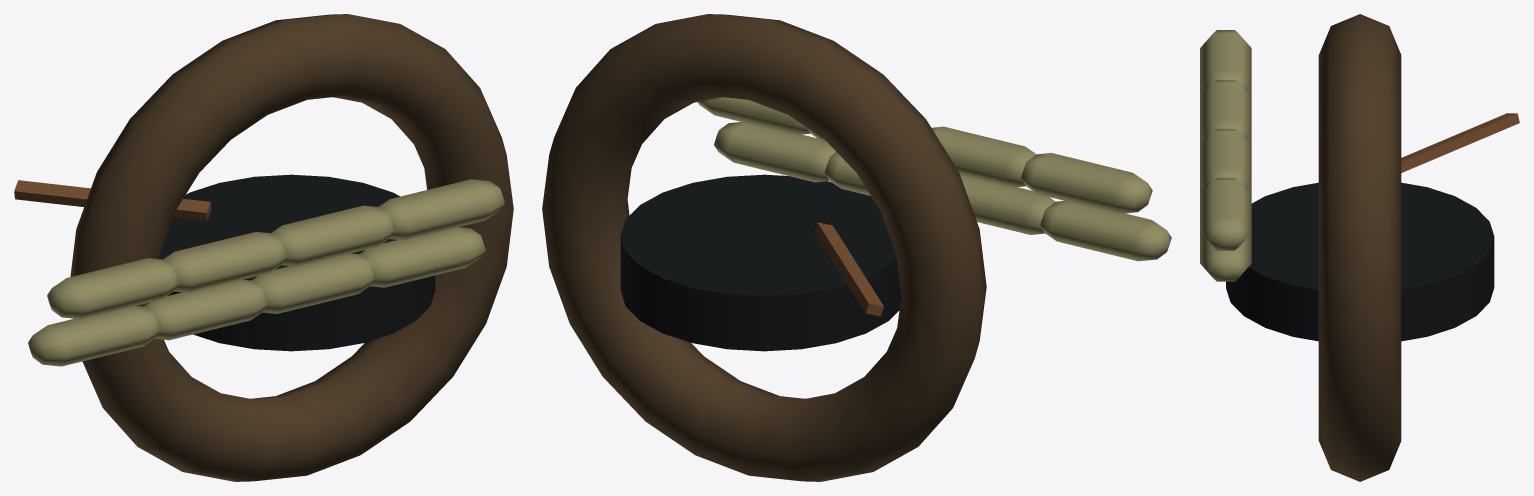
The model's file is foxhole.glb.
The picture shows the model from 3 angles, left to right: view 1: azimuth 30°, elevation 25°; view 2: azimuth 150°, elevation 25°; view 3: azimuth 270°, elevation 25°; orthographic projection. The views are drawn at different scales.
Parts seen in each view (by area): view 1: dirtRim, darkInterior, foxholeBag2_1, foxholeBag1_1, foxholeBag2_4, foxholeBag2_3, foxholeBag2_2, foxholeBag1_4, foxholeBag1_2, foxholeBag1_3, shovel; view 2: dirtRim, darkInterior, foxholeBag2_1, foxholeBag1_1, foxholeBag1_4, foxholeBag2_2, foxholeBag1_2, shovel, foxholeBag2_4, foxholeBag1_3; view 3: dirtRim, darkInterior, foxholeBag2_4, foxholeBag2_1, foxholeBag2_3, foxholeBag2_2, shovel, foxholeBag1_4.
Boxes of the visible parts, x1,y1,x2,y2 form: dirtRim: (70, 14, 513, 481); darkInterior: (159, 174, 435, 351); foxholeBag2_1: (47, 258, 178, 319); foxholeBag1_1: (28, 306, 159, 366); foxholeBag2_4: (379, 179, 504, 240); foxholeBag2_3: (271, 205, 394, 266); foxholeBag2_2: (163, 232, 286, 292); foxholeBag1_4: (359, 227, 485, 287); foxholeBag1_2: (144, 279, 267, 340); foxholeBag1_3: (252, 253, 374, 313); shovel: (14, 180, 211, 220); dirtRim: (542, 14, 986, 481); darkInterior: (620, 174, 901, 351); foxholeBag2_1: (1021, 153, 1152, 213); foxholeBag1_1: (1040, 200, 1171, 261); foxholeBag1_4: (714, 122, 835, 182); foxholeBag2_2: (932, 126, 1036, 187); foxholeBag1_2: (960, 175, 1055, 234); shovel: (814, 222, 883, 316); foxholeBag2_4: (697, 97, 810, 134); foxholeBag1_3: (824, 152, 870, 195); dirtRim: (1318, 14, 1401, 481); darkInterior: (1226, 182, 1494, 341); foxholeBag2_4: (1200, 178, 1251, 250); foxholeBag2_1: (1200, 30, 1251, 90); foxholeBag2_3: (1200, 129, 1251, 189); foxholeBag2_2: (1200, 80, 1251, 139); shovel: (1401, 113, 1519, 172); foxholeBag1_4: (1200, 233, 1251, 281).
Bounding box in the file's own units: 2.3 × 1.82 × 1.24.
